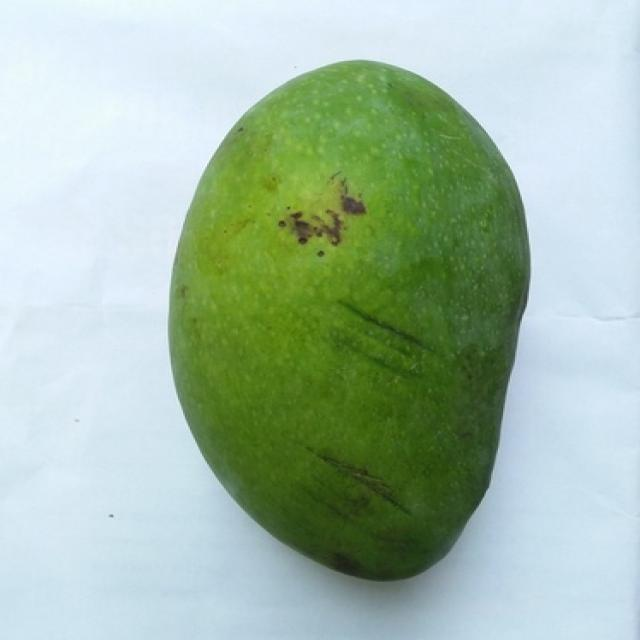Mango: (169, 62, 527, 579)
